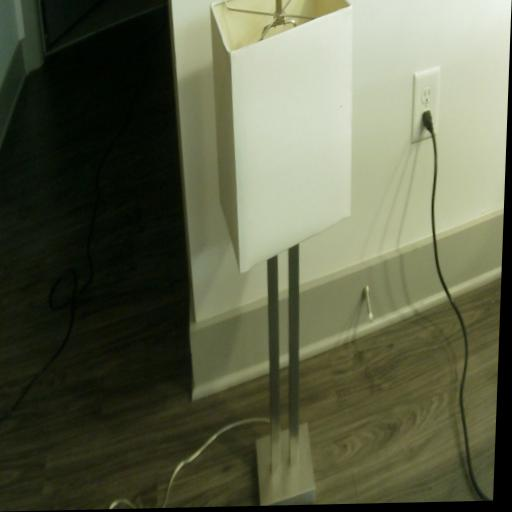lamp: (191, 0, 360, 507)
